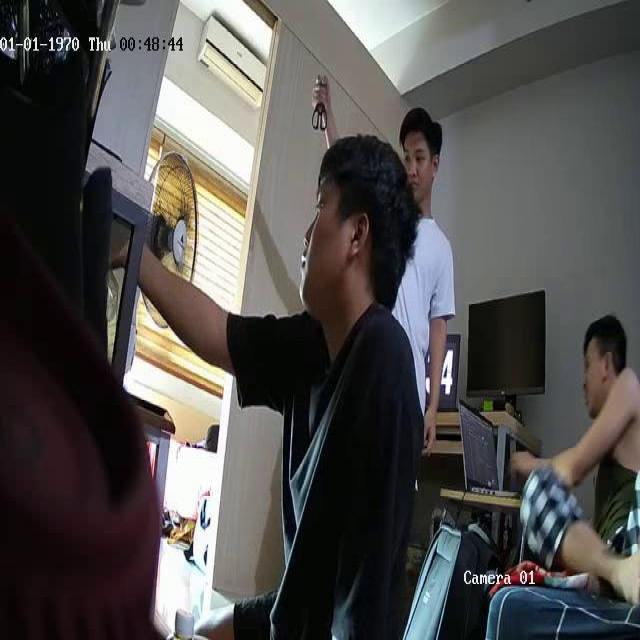scissor: (312, 75, 329, 132)
